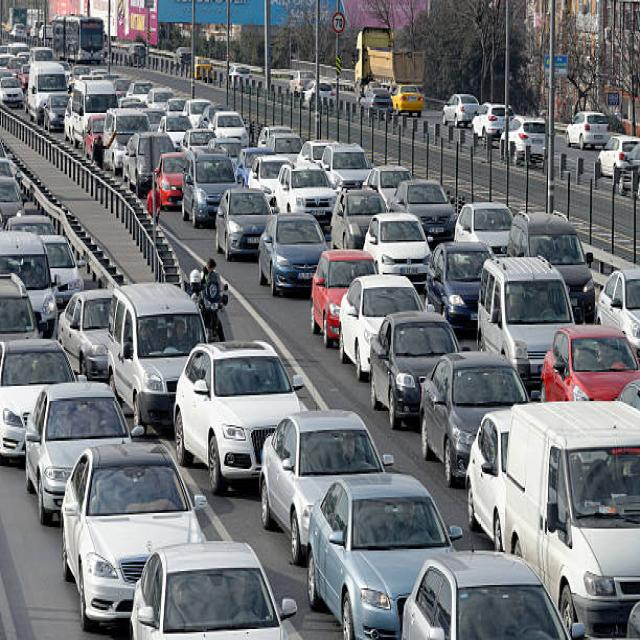16-Wheelers: (352, 25, 396, 97)
Car: (59, 439, 207, 631), (306, 471, 462, 638), (258, 408, 394, 565), (172, 339, 306, 492), (24, 380, 140, 526), (129, 540, 297, 638), (400, 549, 584, 638), (418, 350, 530, 486), (368, 309, 461, 430), (0, 337, 77, 462), (338, 273, 423, 381), (540, 323, 639, 405), (310, 248, 378, 348), (424, 240, 494, 334), (258, 212, 328, 296), (362, 210, 431, 292), (57, 287, 115, 380), (214, 187, 275, 260), (595, 266, 639, 354), (329, 187, 388, 249), (453, 201, 513, 254), (499, 116, 546, 166), (361, 163, 411, 207), (596, 133, 639, 179), (564, 110, 610, 149), (441, 93, 480, 127), (390, 83, 424, 116)
